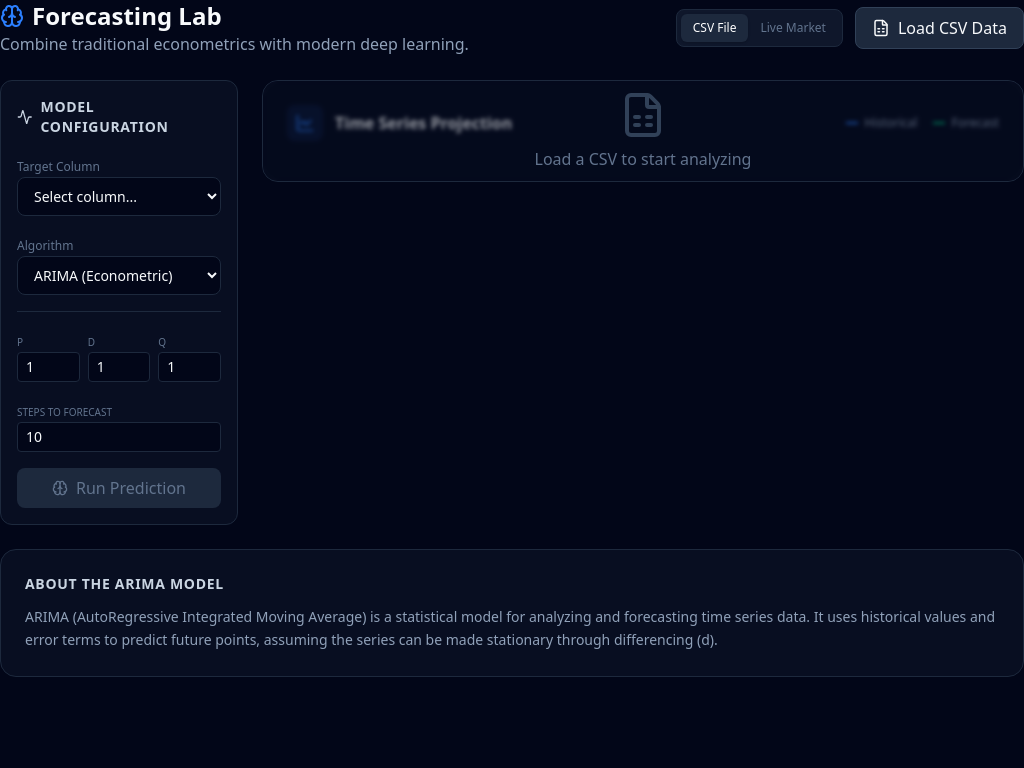
Test case: PredictionTab › should switch models
Select GARCH from dropdown - find the select by its options
Select "GARCH (Volatility)" in the dropdown below "Algorithm". click: x=119, y=276
box: [17, 256, 221, 295]
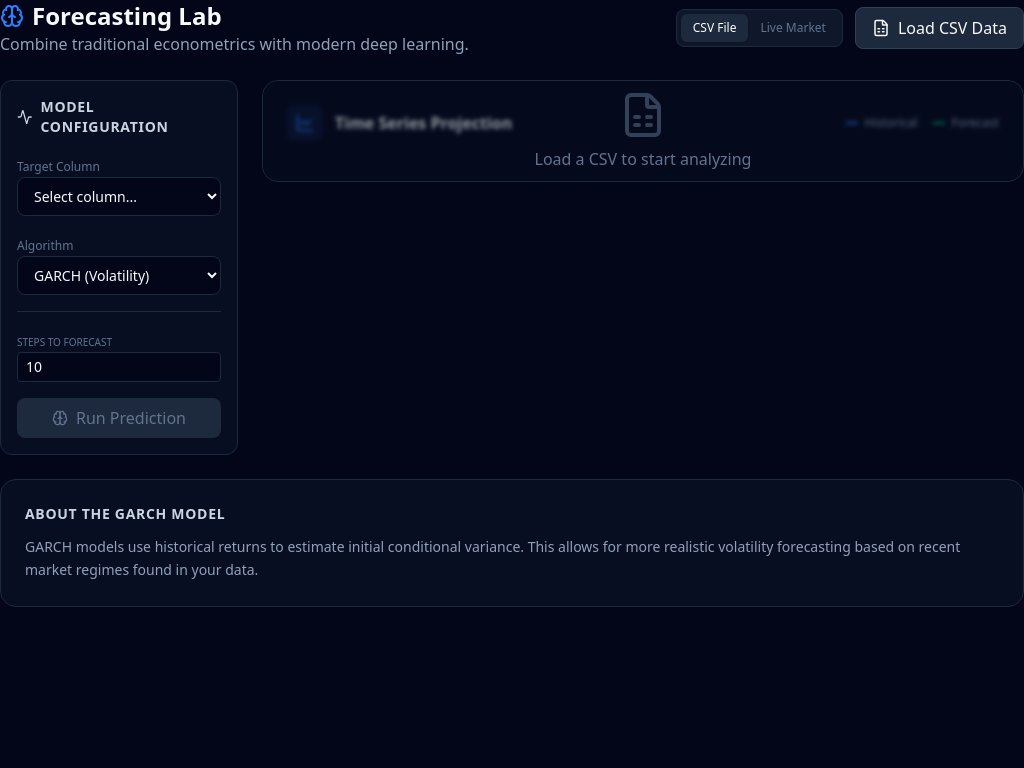
Expected: the heading "About the GARCH Model" is shown, [25, 504, 225, 523]
Select Prophet from dropdown
Select "Prophet (Meta)" in the dropdown below "Algorithm". click: x=119, y=276
box: [17, 256, 221, 295]
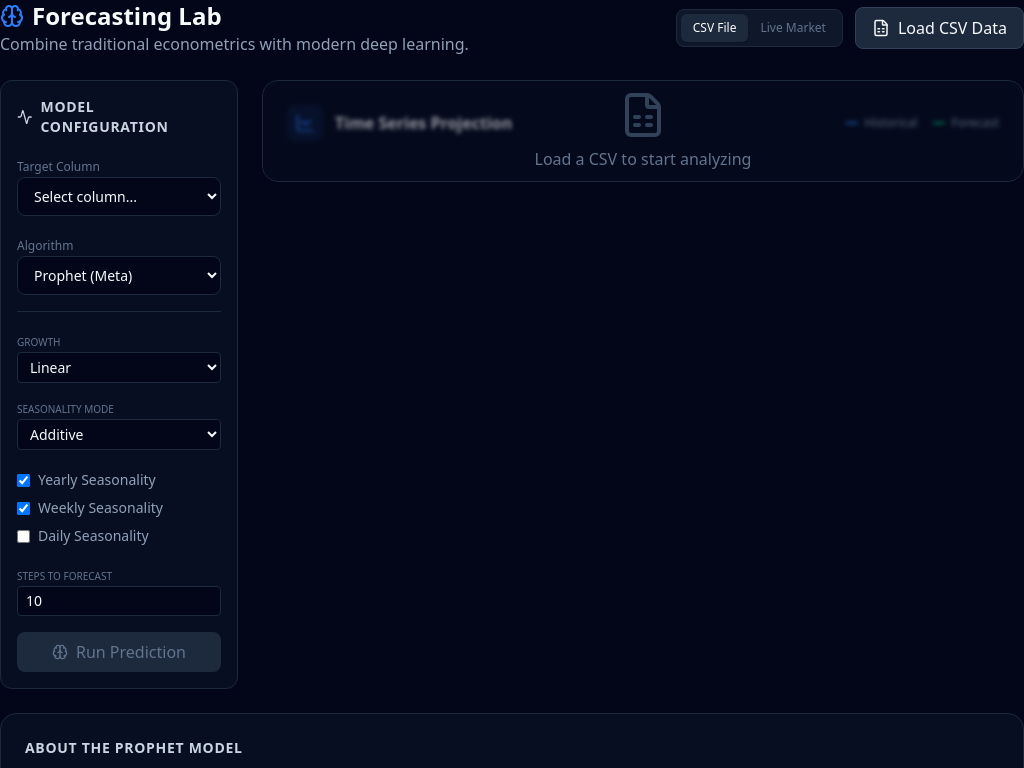
Expected: the heading "About the PROPHET Model" is shown, [25, 738, 243, 757]
